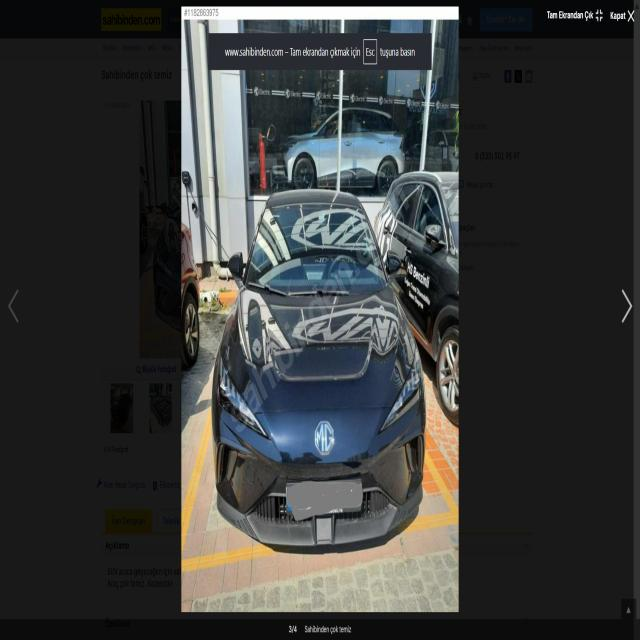mg: (310, 412, 342, 461)
